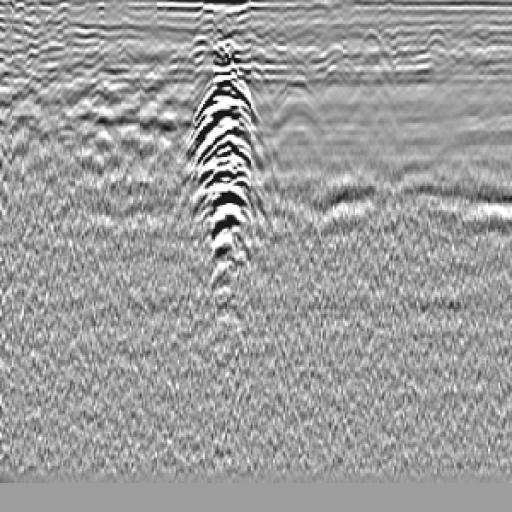metalic: (159, 34, 286, 299)
nonmetalic: (260, 71, 348, 163)
